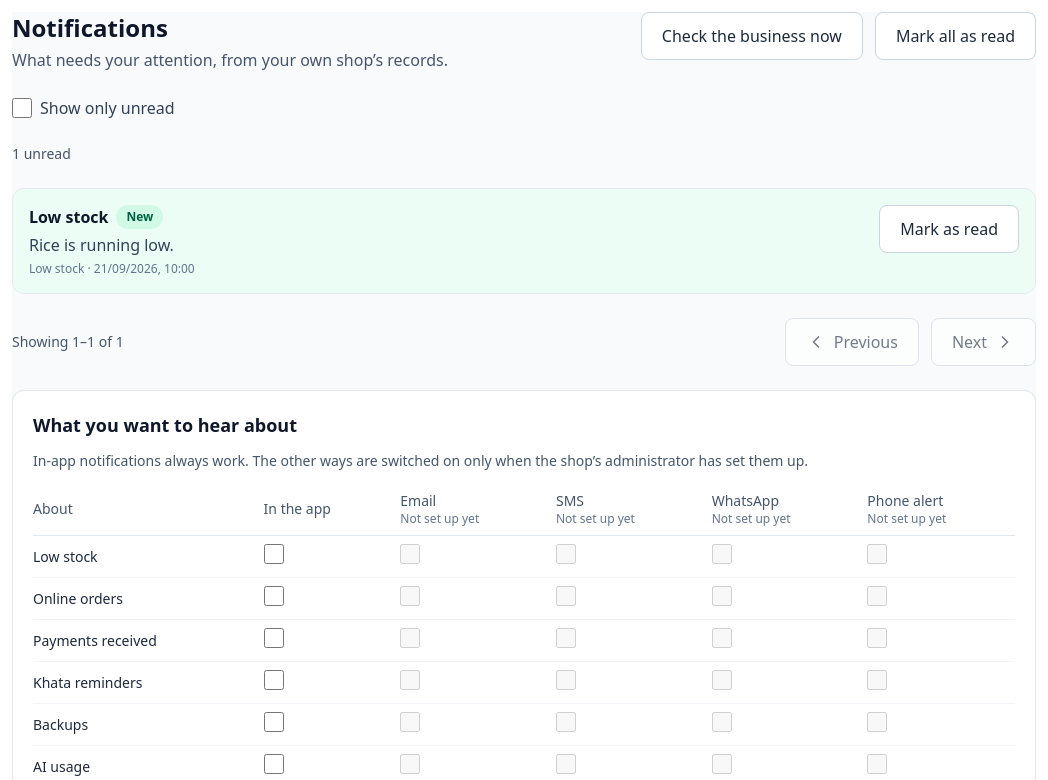
Test case: notifications › lists notifications, marks one read only after the server confirms, and refreshes the list
Expected: the text "Rice is running low." is shown, [29,233,195,257]
Click the button "Mark as read". click: (949, 229)
box: [879,205,1019,253]
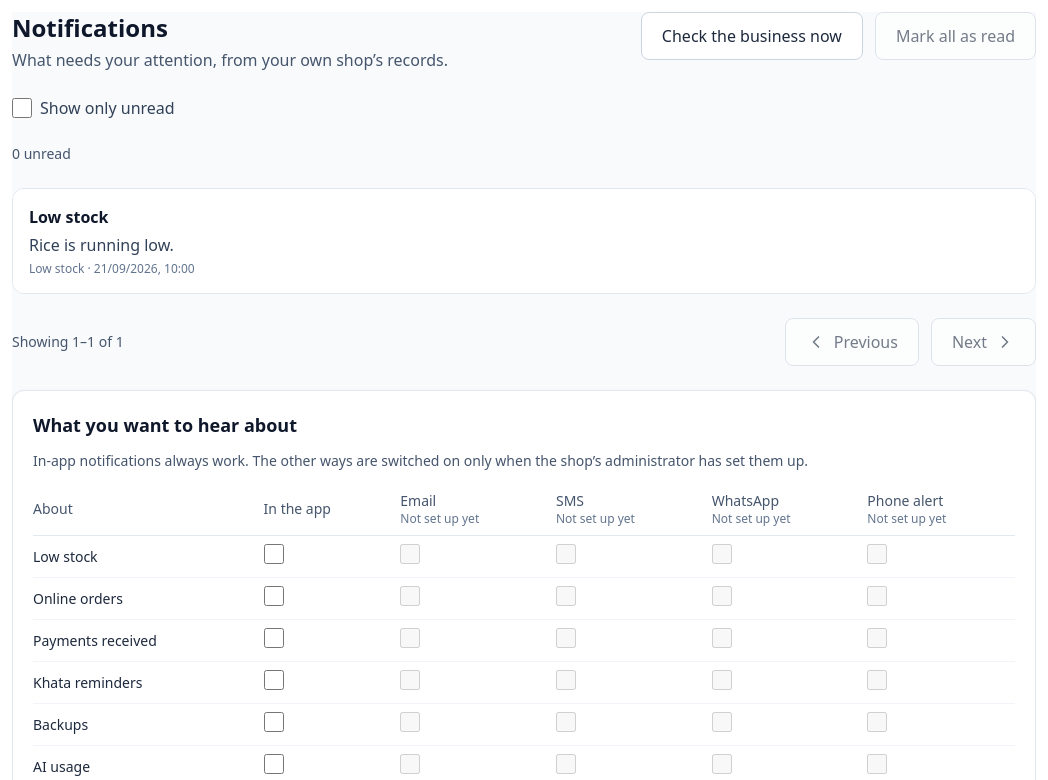
Expected: the button "Mark as read" is gone
